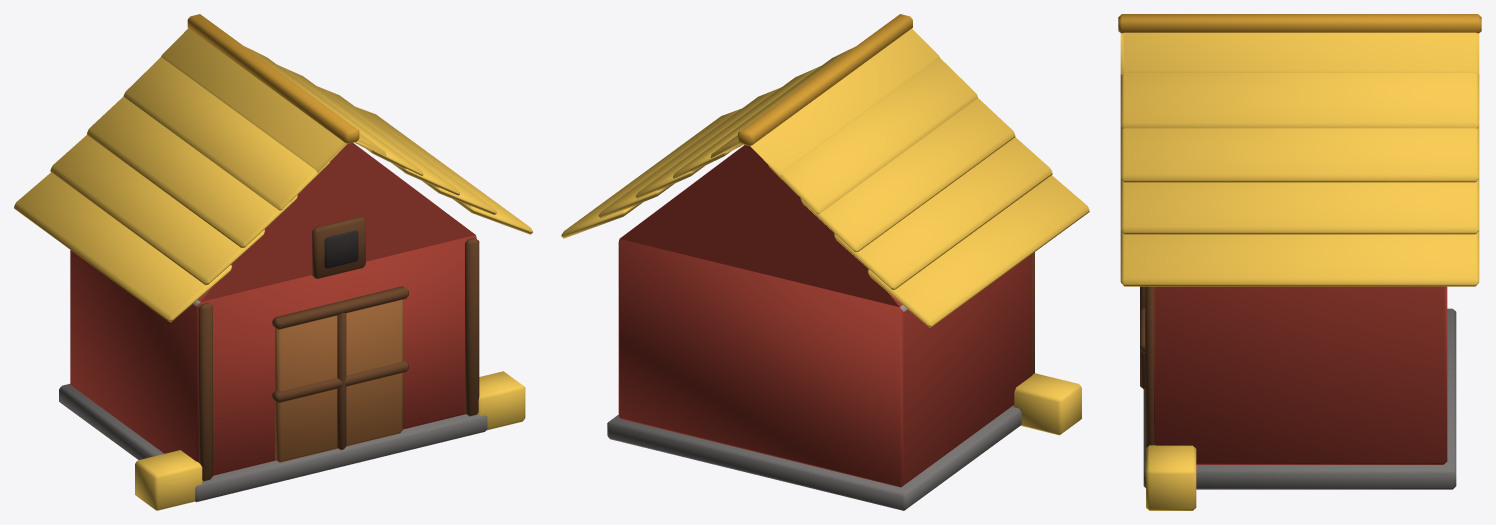
The model's file is B_MedBarn.fbx.
3 views of the same model, side by side, from view 1: azimuth 30°, elevation 25°; view 2: azimuth 150°, elevation 25°; view 3: azimuth 270°, elevation 25° (orthographic). The views are drawn at different scales.
Parts seen in each view (by area): view 1: M_Barn; view 2: M_Barn; view 3: M_Barn.
Boxes of the visible parts, bbox=[...] form: M_Barn: bbox=[14, 14, 532, 510]; M_Barn: bbox=[561, 14, 1089, 510]; M_Barn: bbox=[1118, 14, 1481, 510].
Size of the model in its own units: 5.3 by 4.71 by 3.95.
Materials: 1 (1 with a texture image).
